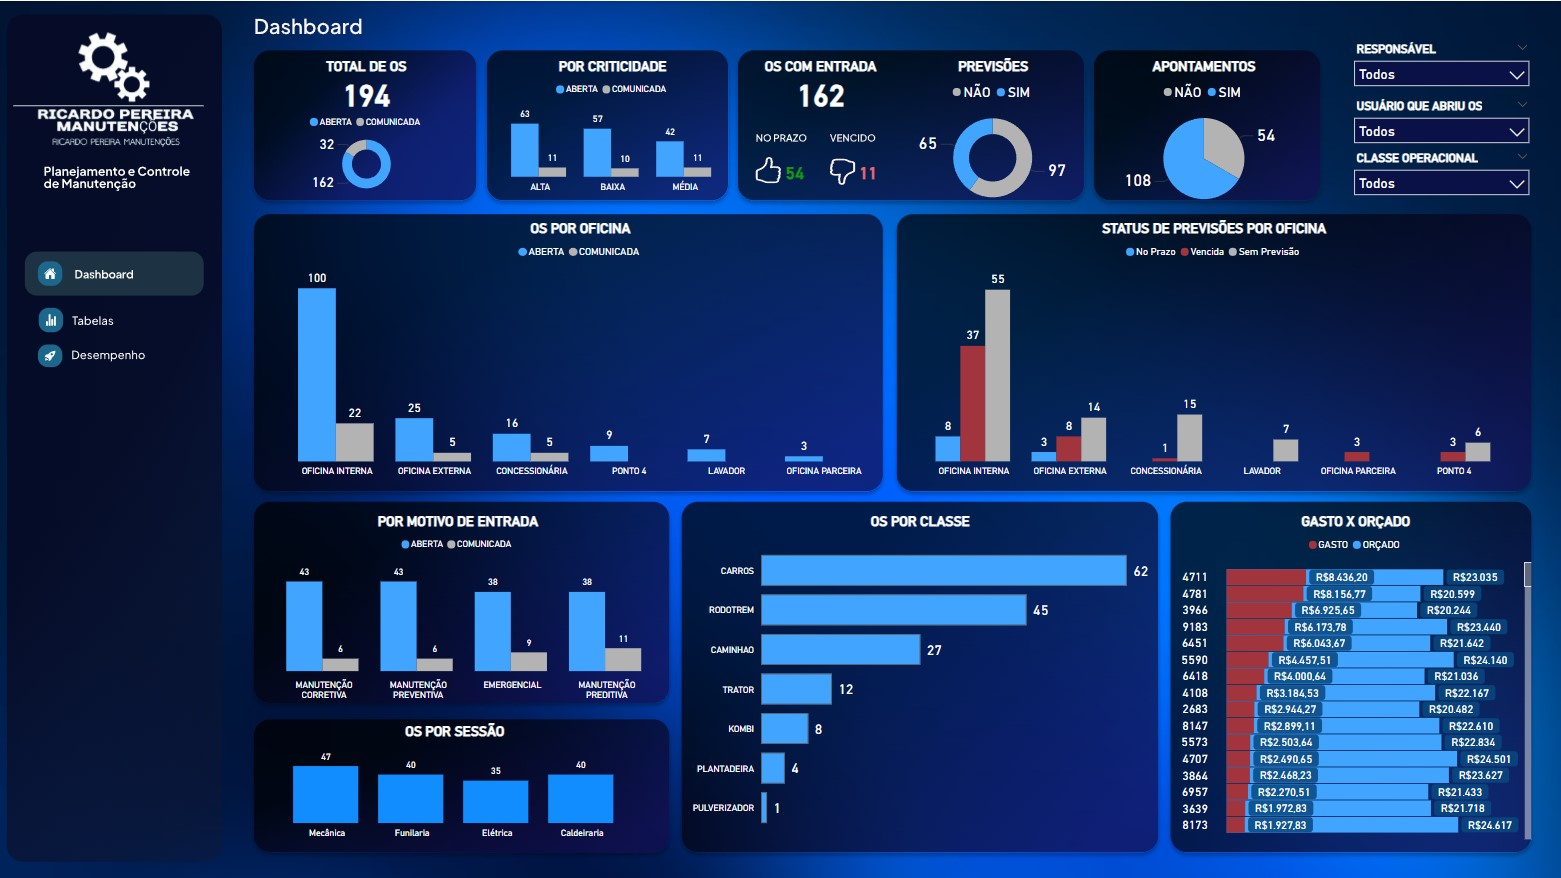

This screenshot's page, from the dashboard's own definition file:
{"tool":"powerbi","page":{"name":"DASHBOARD DARK","canvas":[1920,1080],"ordinal":0},"visuals":[{"type":"card","title":"TOTAL DE OS","fields":{"Values":["Medidas.QtdEquipamentos"]},"box":[347.4,70.3,206.9,67.7],"z":0},{"type":"card","title":"OS COM ENTRADA","fields":{"Values":["Medidas.QtdAberta"]},"box":[929.1,70.3,158.7,67.7],"z":1000},{"type":"multiRowCard","fields":{"Values":["Medidas.QtdNoPrazo"]},"box":[1050.1,193.9,95,48.1],"z":2000},{"type":"multiRowCard","fields":{"Values":["Medidas.EntradaVencida"]},"box":[960.3,193.9,96.3,48.1],"z":3000},{"type":"donutChart","title":"PREVISÕES","fields":{"Y":["Medidas.EntradaSemPrevisao","Medidas.TotalPrevisao"]},"box":[1098.2,70.3,243.3,191.3],"z":4000},{"type":"clusteredColumnChart","title":"OS POR OFICINA","fields":{"Y":["Medidas.QtdAberta","Medidas.QtdComunicada"],"Category":["dCadastroOficina.Dsc Oficina"]},"box":[314,268.6,798.8,322.7],"z":5000},{"type":"clusteredColumnChart","title":"STATUS DE PREVISÕES POR OFICINA","fields":{"Y":["Medidas.QtdNoPrazo","Medidas.EntradaVencida","Medidas.EntradaSemPrevisao"],"Category":["dCadastroOficina.Dsc Oficina"]},"box":[1097.1,268.6,788.4,322.7],"z":6000},{"type":"barChart","title":"OS POR CLASSE","fields":{"Category":["dCadastroEquipamentos.DSC CLASSE"],"Y":["Medidas.QtdAberta"]},"box":[844.5,628.5,572.5,406],"z":7000},{"type":"pieChart","title":"APONTAMENTOS","fields":{"Y":["Medidas.SemApontamentos","Medidas.ContemApontamentos"]},"box":[1341.5,70.3,274.6,192.6],"z":8000},{"type":"clusteredBarChart","title":"GASTO X ORÇADO","fields":{"Category":["fDemandaOS.Cod.Eqp/CC/Agd"],"Y":["Medidas.TotalGastoInterno","Medidas.SomaOrcado"]},"box":[1444.3,628.5,441.1,406],"z":9000},{"type":"clusteredColumnChart","title":"POR CRITICIDADE","fields":{"Y":["Medidas.QtdAberta","Medidas.QtdComunicada"],"Category":["fDemandaOS.Criticidade"]},"box":[588.1,70.3,330.5,171.8],"z":10000},{"type":"clusteredColumnChart","title":"POR MOTIVO DE ENTRADA","fields":{"Category":["fDemandaOS.Motivo"],"Y":["Medidas.QtdAberta","Medidas.QtdComunicada"]},"box":[282.6,627.9,561.6,237.2],"z":11000},{"type":"columnChart","title":"OS POR SESSÃO","fields":{"Category":["fDemandaOS.Seção Mecânica Box"],"Y":["Medidas.QtdAberta"]},"box":[313.7,885.6,490.2,148.8],"z":12000},{"type":"slicer","fields":{"Values":["dCadastroEquipamentos.USUARIO"]},"box":[1653.5,45.3,235.5,64.5],"z":13000},{"type":"slicer","fields":{"Values":["fDemandaOS.Usuário Que Abriu A O.S."]},"box":[1653.5,115.1,235.5,64.5],"z":14000},{"type":"slicer","fields":{"Values":["dCadastroEquipamentos.DSC CLASSE"]},"box":[1653.5,179.7,235.5,62.8],"z":15000},{"type":"donutChart","title":"PREVISÕES","fields":{"Y":["Medidas.QtdAberta","Medidas.QtdComunicada"]},"box":[355.2,128.8,192.6,114.5],"z":16000}]}

Visuals, with their boxes on the page's 1920x1080 design canvas (x1, y1, x2, y2). These are canvas units, not pixel positions in the 1561x878 screenshot, which may show the page scaled, cropped or inside an application window:
"TOTAL DE OS" card: (347, 70, 554, 138)
"OS COM ENTRADA" card: (929, 70, 1088, 138)
multiRowCard - Medidas.QtdNoPrazo: (1050, 194, 1145, 242)
multiRowCard - Medidas.EntradaVencida: (960, 194, 1057, 242)
"PREVISÕES" donutChart: (1098, 70, 1342, 262)
"OS POR OFICINA" clusteredColumnChart: (314, 269, 1113, 591)
"STATUS DE PREVISÕES POR OFICINA" clusteredColumnChart: (1097, 269, 1886, 591)
"OS POR CLASSE" barChart: (844, 628, 1417, 1034)
"APONTAMENTOS" pieChart: (1342, 70, 1616, 263)
"GASTO X ORÇADO" clusteredBarChart: (1444, 628, 1885, 1034)
"POR CRITICIDADE" clusteredColumnChart: (588, 70, 919, 242)
"POR MOTIVO DE ENTRADA" clusteredColumnChart: (283, 628, 844, 865)
"OS POR SESSÃO" columnChart: (314, 886, 804, 1034)
slicer - dCadastroEquipamentos.USUARIO: (1654, 45, 1889, 110)
slicer - fDemandaOS.Usuário Que Abriu A O.S.: (1654, 115, 1889, 180)
slicer - dCadastroEquipamentos.DSC CLASSE: (1654, 180, 1889, 242)
"PREVISÕES" donutChart: (355, 129, 548, 243)
